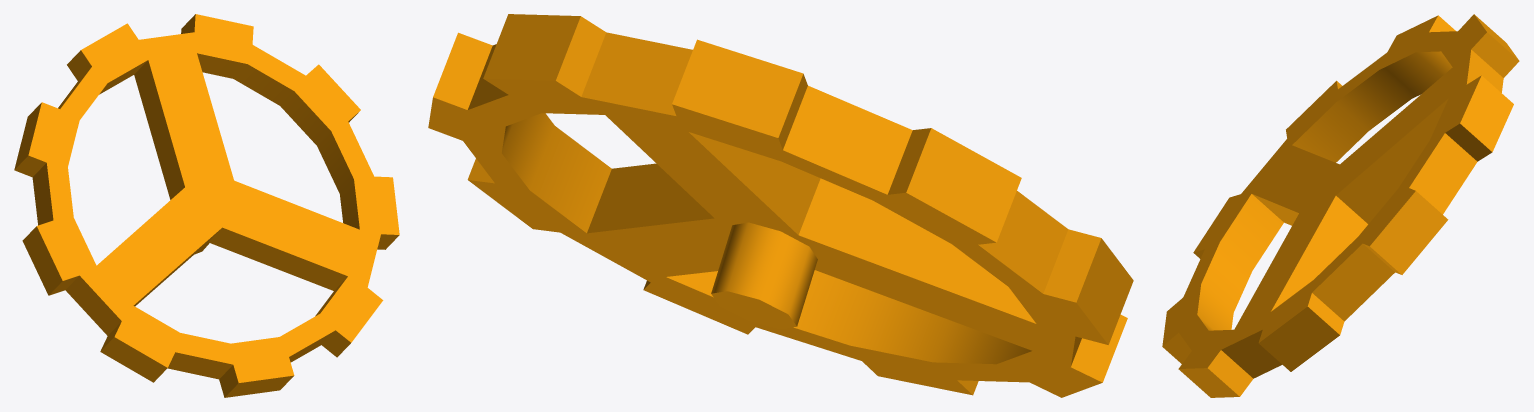
Rendered from Wheel01.fbx.
The picture shows the model from 3 angles, left to right: view 1: azimuth 30°, elevation 25°; view 2: azimuth 150°, elevation 25°; view 3: azimuth 270°, elevation 25°; orthographic projection. The views are drawn at different scales.
Visible parts, largest first — view 1: Wheel01; view 2: Wheel01; view 3: Wheel01.
Boxes of the visible parts, x1,y1,x2,y2 form: Wheel01: (14, 14, 399, 397); Wheel01: (428, 14, 1133, 397); Wheel01: (1162, 14, 1519, 397).
Bounding box in the file's own units: 1.06 × 0.832 × 0.8211.
